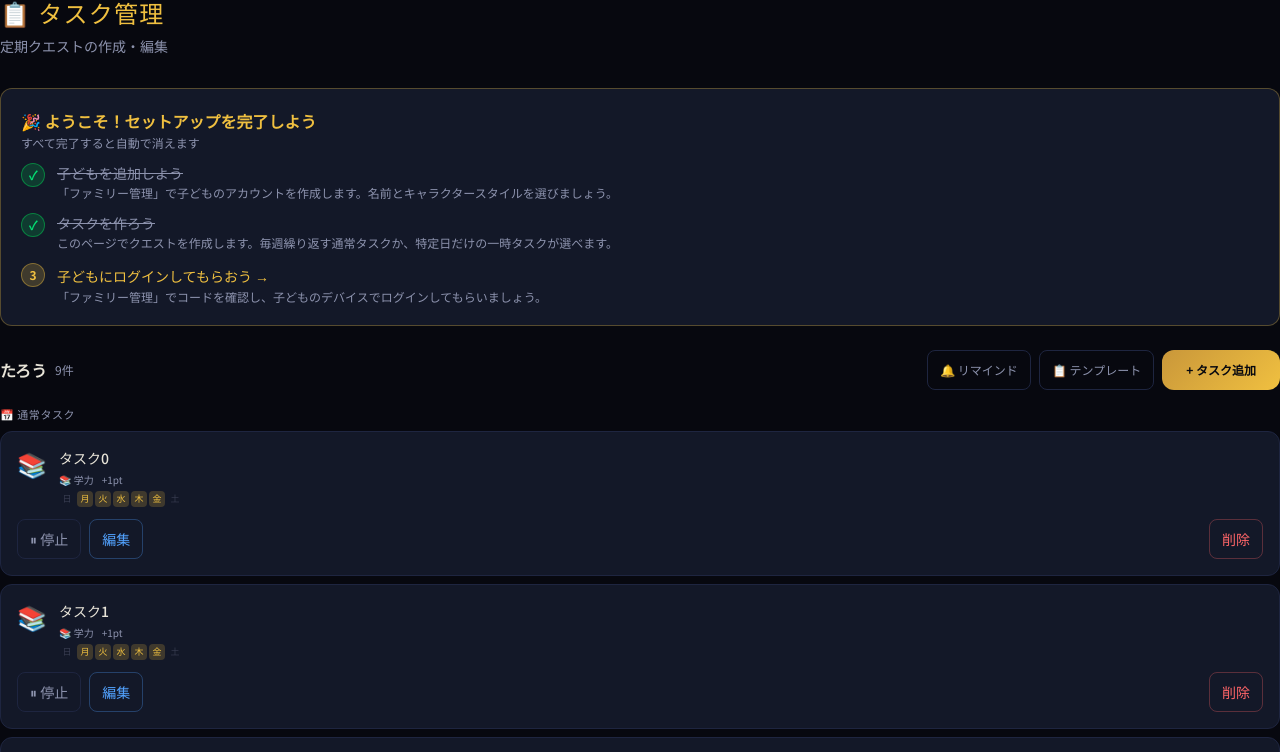
Scenario: 親 タスク管理ページ: 追加ボタンの preempt チェック (Issue #148) › 9/10 (上限未満) なら「+ タスク追加」でフォームが開く
Click the button "+ タスク追加". click: {"x": 1221, "y": 370}
box: [1162, 350, 1279, 390]
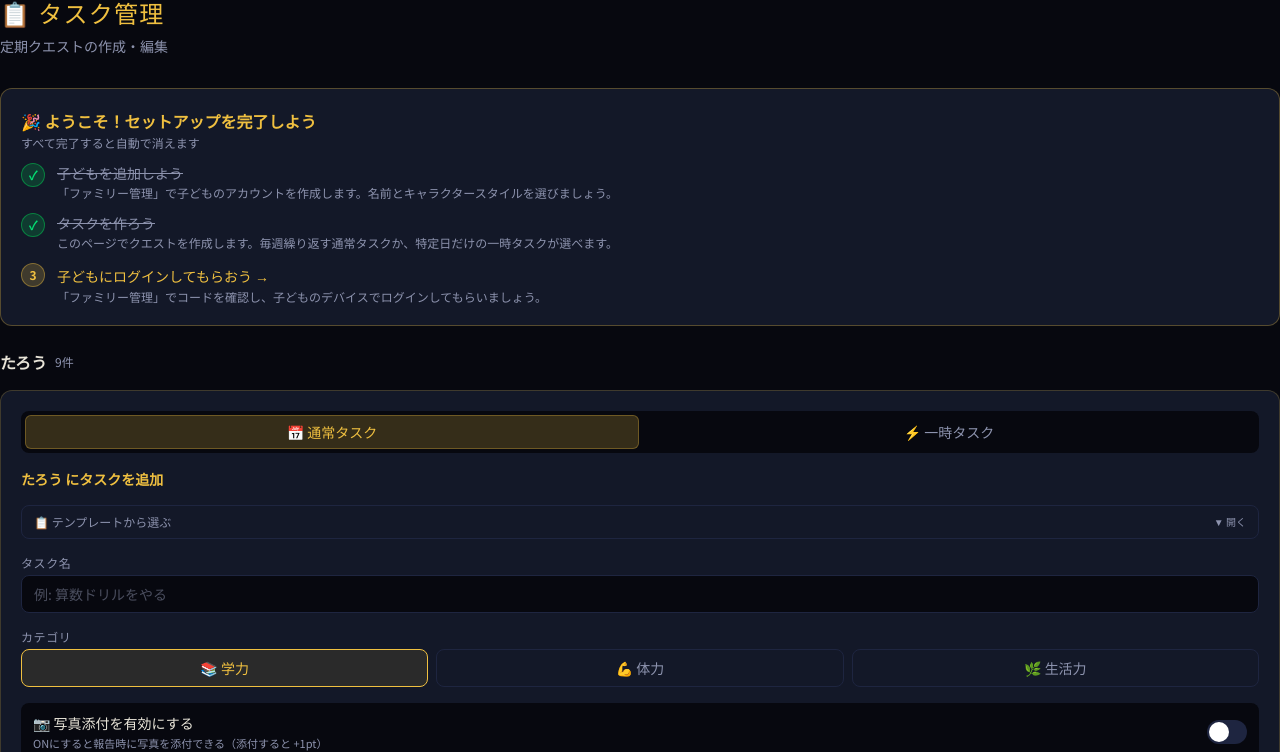
expect the field with placeholder "例: 算数ドリルをやる" is shown: met, box [21, 575, 1259, 613]
